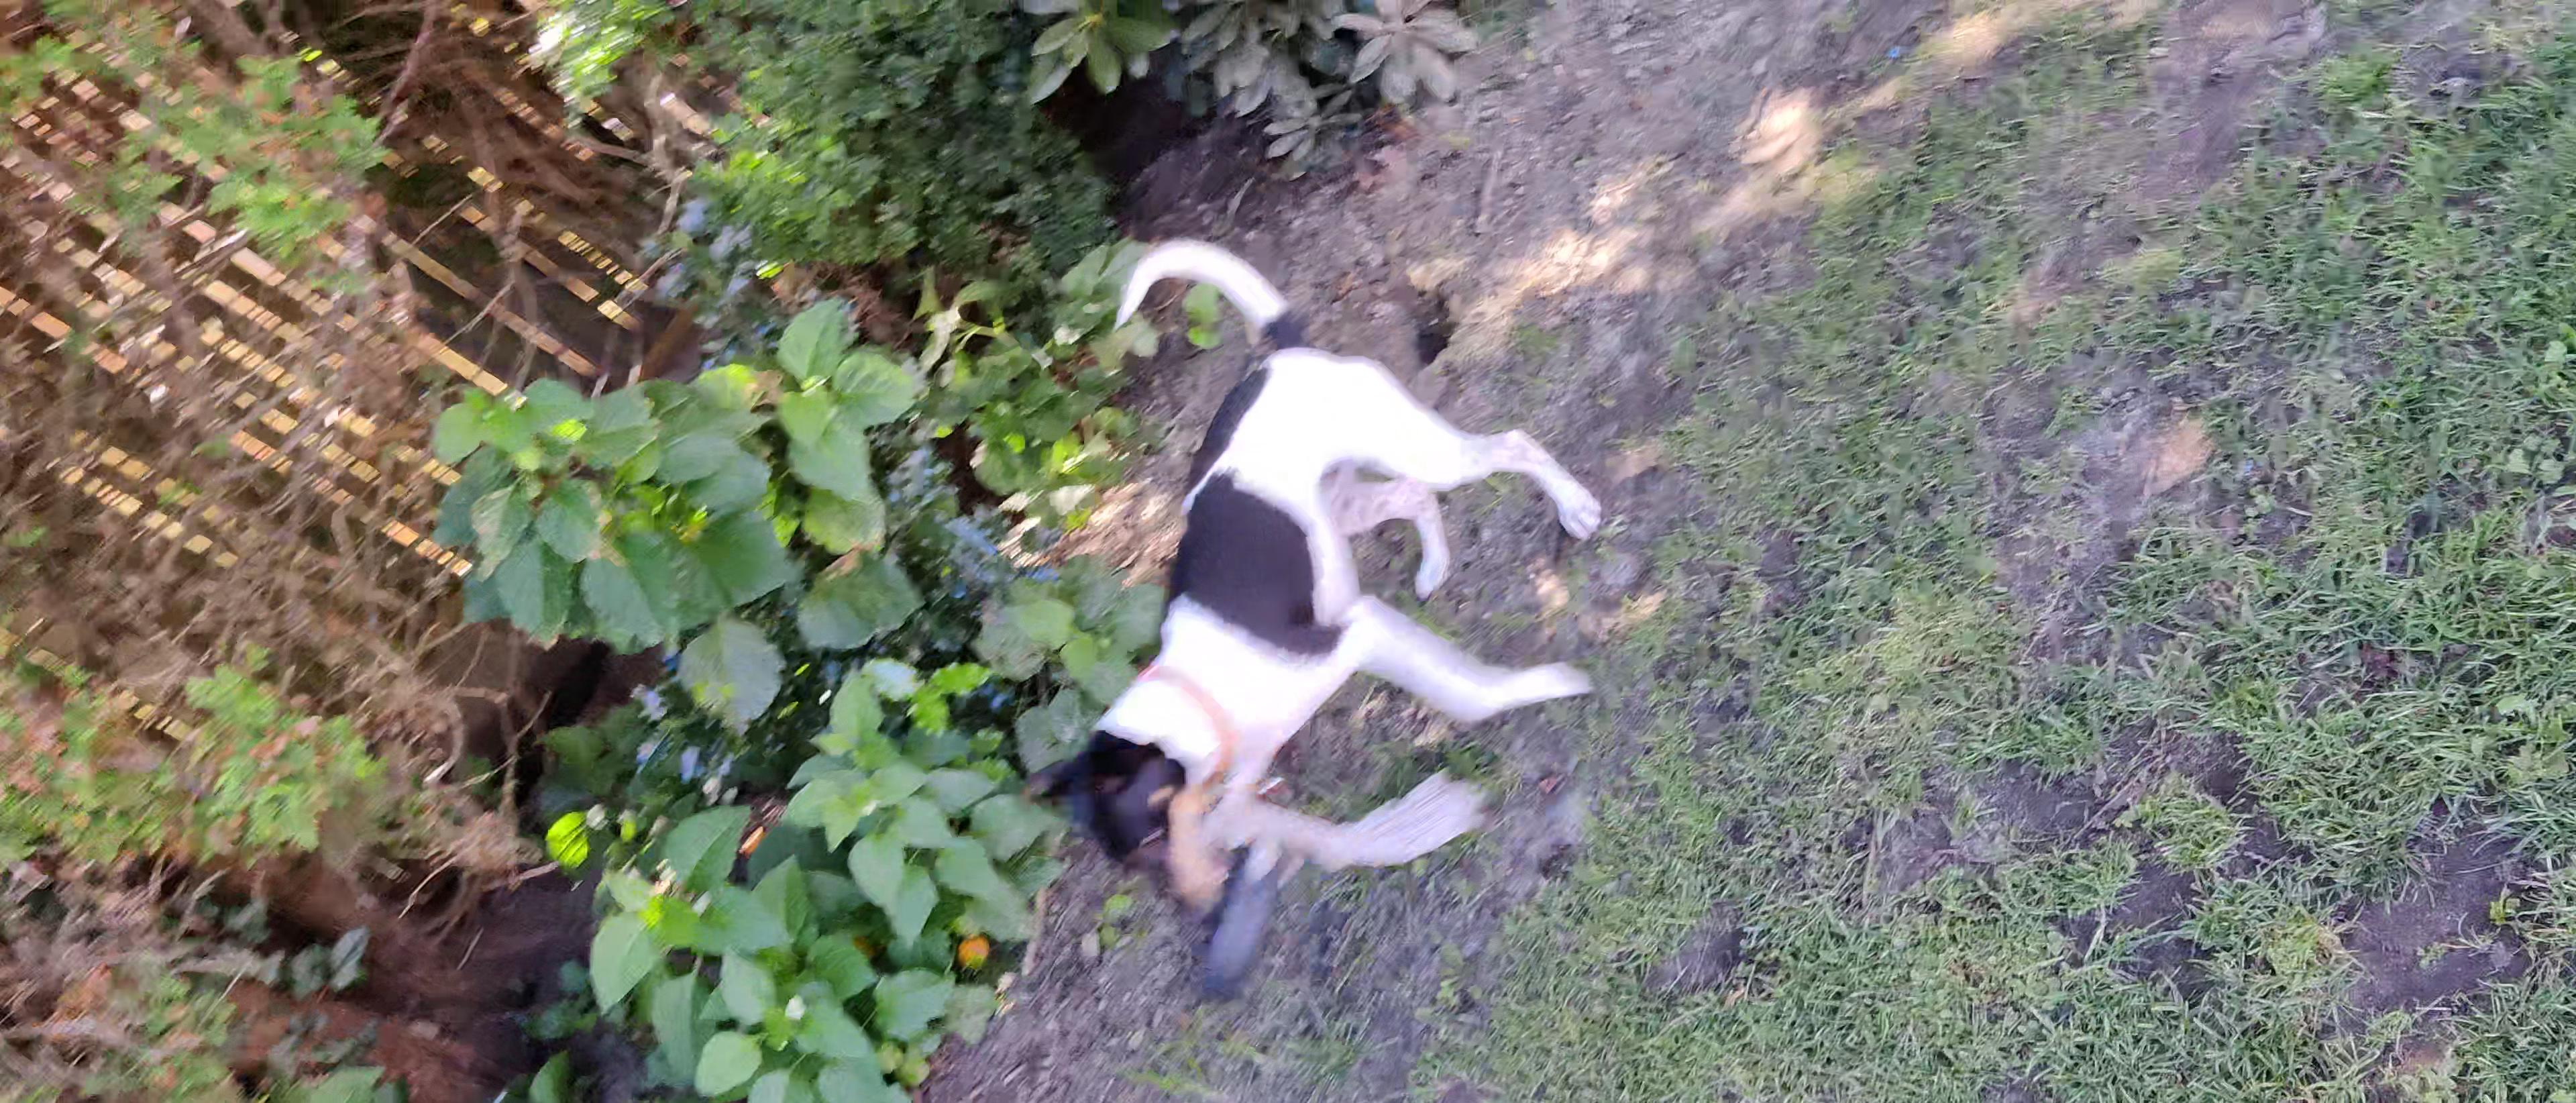Dog: (1009, 228, 1613, 932)
